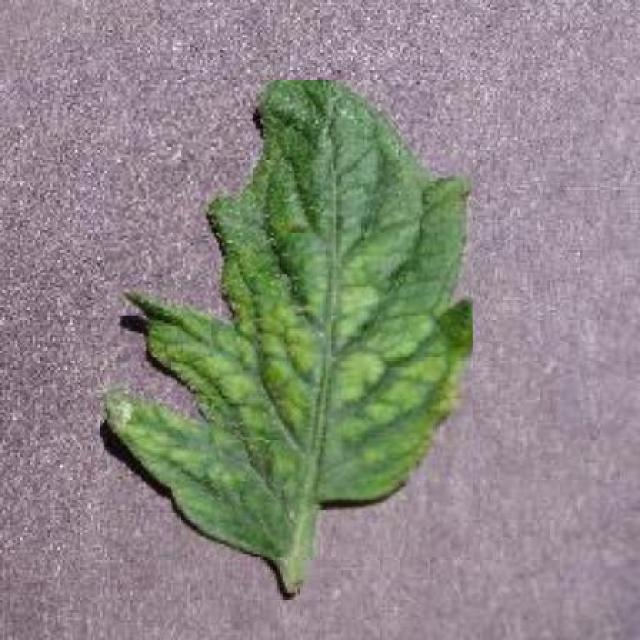Mosaic Virus: (105, 80, 474, 557)
